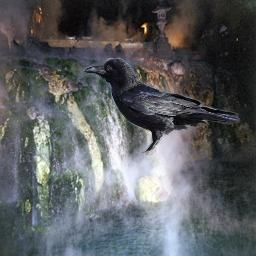Crow: (83, 58, 240, 155)
